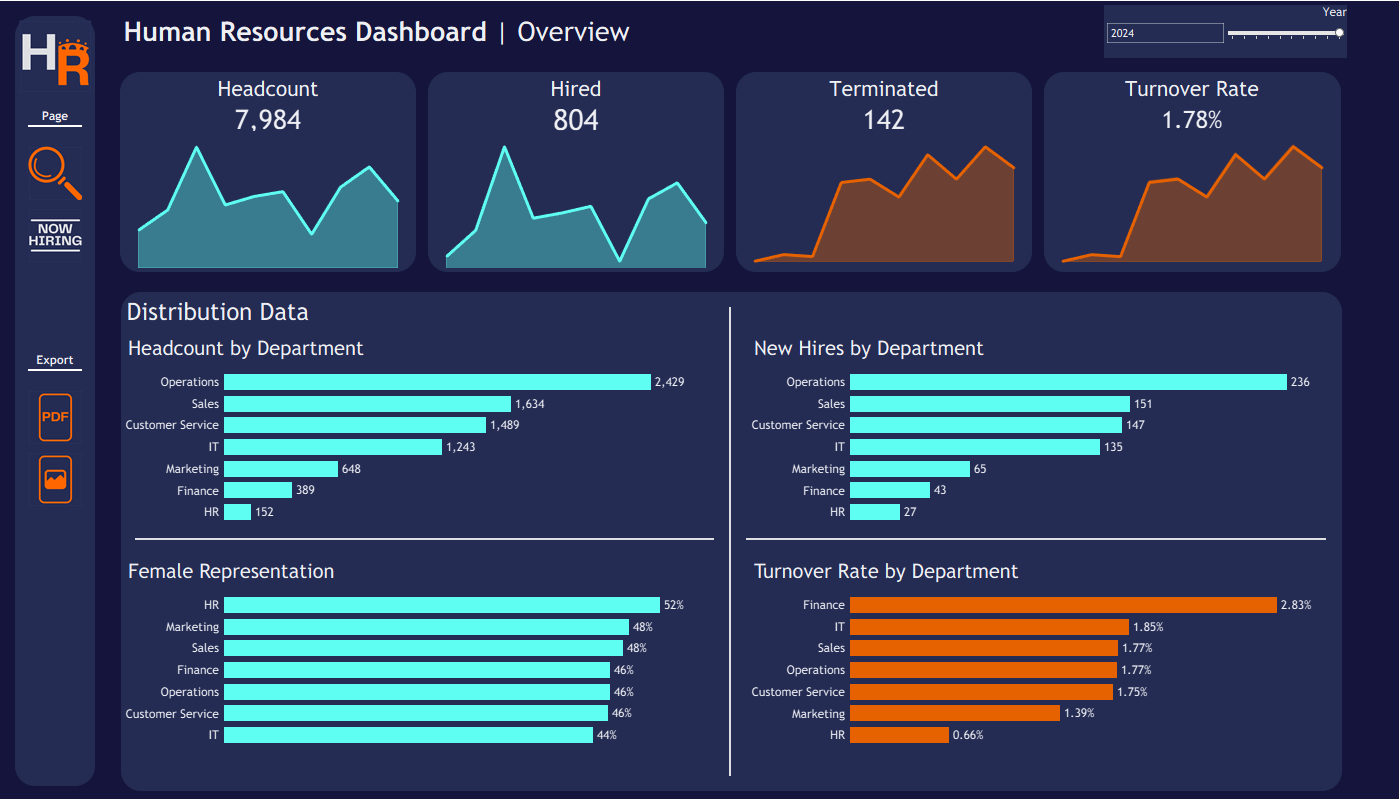

Layout of this report page (visuals, bound fields, positions):
{"tool":"tableau","page":{"name":"Overview Page","canvas":[1400,800],"ordinal":0},"visuals":[{"type":"image","param":"Image/No Linear no Blur page 1.png","box":[0,0,1400,800]},{"type":"text","box":[110,0,990,61]},{"type":"parameter","param":"[Parameters].[Termdate Parameter]","box":[1100,0,251,61]},{"type":"image","param":"Image/HR Logo(3).png","box":[15,15,80,80]},{"type":"text","box":[120,71,296.1,33]},{"type":"text","box":[428.1,71,296.1,33]},{"type":"text","box":[736.3,71,296.1,33]},{"type":"text","box":[1044.4,71,296.1,33]},{"type":"text","box":[24,104,62,18]},{"type":"worksheet","title":"Headcount #","mark":"Automatic","box":[120,104,296.1,30]},{"type":"worksheet","title":"Hired  #","mark":"Automatic","box":[428.1,104,296.1,30]},{"type":"worksheet","title":"Termination #","mark":"Automatic","box":[736.3,104,296.1,30]},{"type":"worksheet","title":"Turnover Rate","mark":"Automatic","box":[1044.4,104,296.1,30]},{"type":"blank","box":[24,122,62,19]},{"type":"worksheet","title":"Headcount/Year","mark":"Line","rows":["Calculation_2178897834099904512","Calculation_2178897834099904512"],"cols":["Hiredate"],"box":[120,134,296.1,137]},{"type":"worksheet","title":"Hired/Year","mark":"Line","rows":["Calculation_2084603716715823104","Calculation_2084603716715823104"],"cols":["Hiredate"],"box":[428.1,134,296.1,137]},{"type":"worksheet","title":"Term/Year","mark":"Area","rows":["Calculation_2084603716716068865","Calculation_2084603716716068865"],"cols":["Termdate"],"box":[736.3,134,296.1,137]},{"type":"worksheet","title":"Turnover/Year","mark":"Automatic","rows":["Calculation_4105031099934289923","Calculation_4010736983934300160"],"cols":["Termdate"],"box":[1044.4,134,296.1,137]},{"type":"dashboard-object","box":[24,141,62,62]},{"type":"dashboard-object","box":[24,203,62,62]},{"type":"blank","box":[24,265,62,83]},{"type":"text","box":[120,291,594.5,36]},{"type":"blank","box":[714.5,291,32,499]},{"type":"blank","box":[746.5,291,594.5,36]},{"type":"worksheet","title":"Headcount/Dept","mark":"Bar","rows":["Department"],"cols":["Calculation_4105031099957608460"],"box":[120,327,594.5,195]},{"type":"worksheet","title":"Hires/Dept","mark":"Bar","rows":["Department"],"cols":["Calculation_4229443039684034563"],"box":[746.5,327,594.5,195]},{"type":"text","box":[24,348,62,18]},{"type":"blank","box":[24,366,62,19]},{"type":"dashboard-object","box":[24,385,62,62]},{"type":"dashboard-object","box":[24,447,62,62]},{"type":"blank","box":[120,522,594.5,32]},{"type":"blank","box":[746.5,522,594.5,32]},{"type":"worksheet","title":"Women/Dept","mark":"Bar","rows":["Department"],"cols":["Calculation_4105031099937026052"],"box":[120,554,594.5,195]},{"type":"worksheet","title":"Turnover/Dept","mark":"Bar","rows":["Department"],"cols":["Calculation_4105031099957776397"],"box":[746.5,554,594.5,195]},{"type":"blank","box":[120,749,594.5,32]},{"type":"blank","box":[746.5,749,594.5,32]}]}

Visuals, with their boxes in screenshot pixels (x1, y1, x2, y2), scaled from the page's 1400x800 canvas onto the 1399x799 screenshot:
image: box=[0, 0, 1398, 798]
text: box=[110, 0, 1099, 61]
parameter: box=[1099, 0, 1350, 61]
image: box=[15, 15, 95, 95]
text: box=[120, 71, 416, 104]
text: box=[428, 71, 724, 104]
text: box=[736, 71, 1032, 104]
text: box=[1044, 71, 1340, 104]
text: box=[24, 104, 86, 122]
"Headcount #" worksheet: box=[120, 104, 416, 134]
"Hired  #" worksheet: box=[428, 104, 724, 134]
"Termination #" worksheet: box=[736, 104, 1032, 134]
"Turnover Rate" worksheet: box=[1044, 104, 1340, 134]
blank: box=[24, 122, 86, 141]
"Headcount/Year" worksheet (Line marks): box=[120, 134, 416, 271]
"Hired/Year" worksheet (Line marks): box=[428, 134, 724, 271]
"Term/Year" worksheet (Area marks): box=[736, 134, 1032, 271]
"Turnover/Year" worksheet: box=[1044, 134, 1340, 271]
dashboard-object: box=[24, 141, 86, 203]
dashboard-object: box=[24, 203, 86, 265]
blank: box=[24, 265, 86, 348]
text: box=[120, 291, 714, 327]
blank: box=[714, 291, 746, 789]
blank: box=[746, 291, 1340, 327]
"Headcount/Dept" worksheet (Bar marks): box=[120, 327, 714, 521]
"Hires/Dept" worksheet (Bar marks): box=[746, 327, 1340, 521]
text: box=[24, 348, 86, 366]
blank: box=[24, 366, 86, 385]
dashboard-object: box=[24, 385, 86, 446]
dashboard-object: box=[24, 446, 86, 508]
blank: box=[120, 521, 714, 553]
blank: box=[746, 521, 1340, 553]
"Women/Dept" worksheet (Bar marks): box=[120, 553, 714, 748]
"Turnover/Dept" worksheet (Bar marks): box=[746, 553, 1340, 748]
blank: box=[120, 748, 714, 780]
blank: box=[746, 748, 1340, 780]
